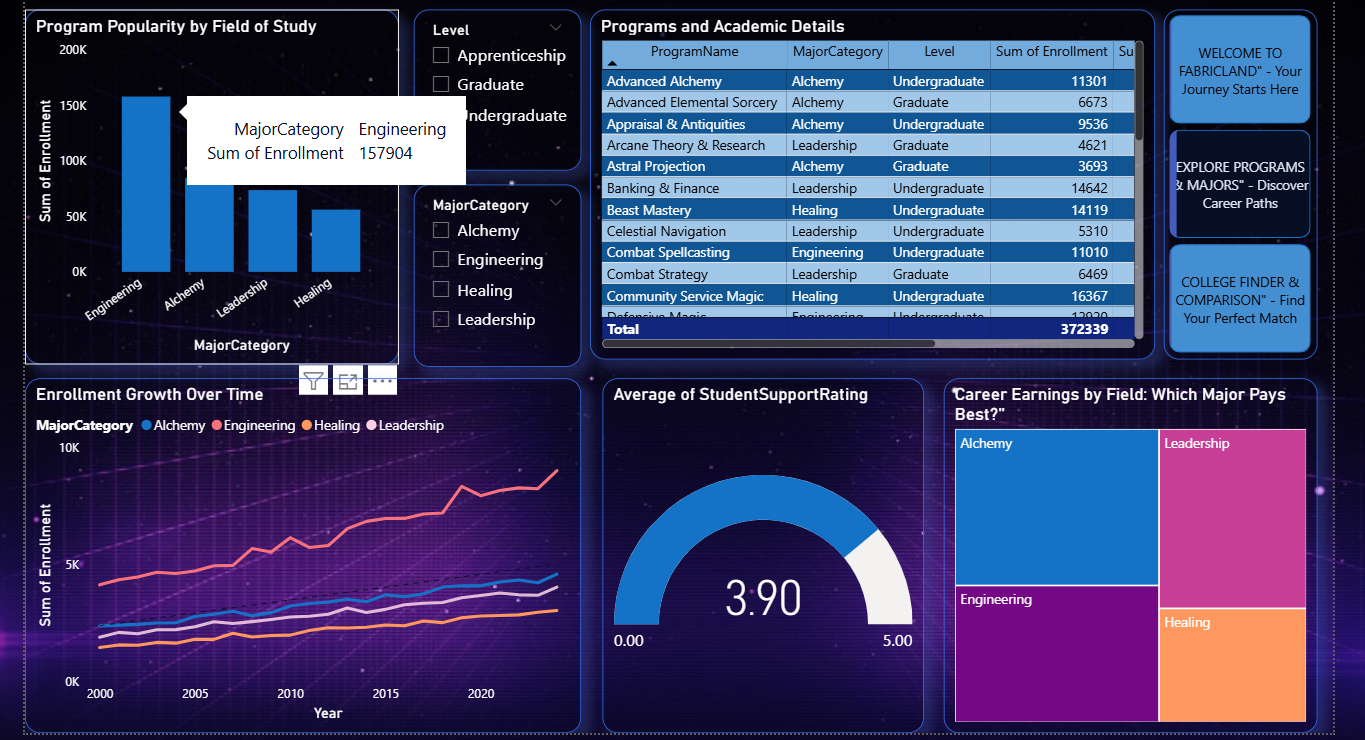

What the dashboard file says about the page in this screenshot:
{"tool":"powerbi","page":{"name":"EXPLORE PROGRAMS & MAJORS\" - Discover Career Paths","canvas":[1280,720],"ordinal":1},"visuals":[{"type":"gauge","fields":{"Y":["Avg(College_Profiles.StudentSupportRating)"]},"box":[564.9,373,314.3,347.3],"z":1000},{"type":"slicer","fields":{"Values":["Programs_Majors.Level"]},"box":[380.3,12.2,163.9,157.7],"z":2000},{"type":"slicer","fields":{"Values":["Programs_Majors.MajorCategory"]},"box":[380.3,183.4,163.9,178.5],"z":3000},{"type":"clusteredColumnChart","title":"Program Popularity by Field of Study","fields":{"Category":["Programs_Majors.MajorCategory"],"Y":["Sum(Programs_Majors.Enrollment)"]},"box":[0,12.2,365.6,347.3],"z":4000},{"type":"tableEx","title":"Programs and Academic Details","fields":{"Values":["Programs_Majors.ProgramName","Programs_Majors.MajorCategory","Programs_Majors.Level","Sum(Programs_Majors.Enrollment)","Sum(Programs_Majors.AvgGraduationRate)","Sum(Programs_Majors.AvgStartingSalary)"]},"box":[552.7,12.2,552.7,342.4],"z":5000},{"type":"lineChart","title":"Enrollment Growth Over Time","fields":{"Category":["Programs_Majors.Year.Variation.Date Hierarchy.Year","Programs_Majors.Year.Variation.Date Hierarchy.Quarter","Programs_Majors.Year.Variation.Date Hierarchy.Month","Programs_Majors.Year.Variation.Date Hierarchy.Day"],"Y":["Sum(Programs_Majors.Enrollment)"],"Series":["Programs_Majors.MajorCategory"]},"box":[0,373,544.2,347.3],"z":6000},{"type":"treemap","title":"Career Earnings by Field: Which Major Pays Best?\"","fields":{"Group":["Programs_Majors.MajorCategory"],"Values":["Sum(Programs_Majors.AvgStartingSalary)"]},"box":[898.8,373,365.6,347.3],"z":7000},{"type":"pageNavigator","box":[1114,12.2,150.4,342.4],"z":7001}]}

Visuals, with their boxes on the page's 1280x720 design canvas (x1, y1, x2, y2). These are canvas units, not pixel positions in the 1365x740 screenshot, which may show the page scaled, cropped or inside an application window:
gauge - Avg(College_Profiles.StudentSupportRating): <region>565, 373, 879, 720</region>
slicer - Programs_Majors.Level: <region>380, 12, 544, 170</region>
slicer - Programs_Majors.MajorCategory: <region>380, 183, 544, 362</region>
"Program Popularity by Field of Study" clusteredColumnChart: <region>0, 12, 366, 360</region>
"Programs and Academic Details" tableEx: <region>553, 12, 1105, 355</region>
"Enrollment Growth Over Time" lineChart: <region>0, 373, 544, 720</region>
"Career Earnings by Field: Which Major Pays Best?"" treemap: <region>899, 373, 1264, 720</region>
pageNavigator: <region>1114, 12, 1264, 355</region>
